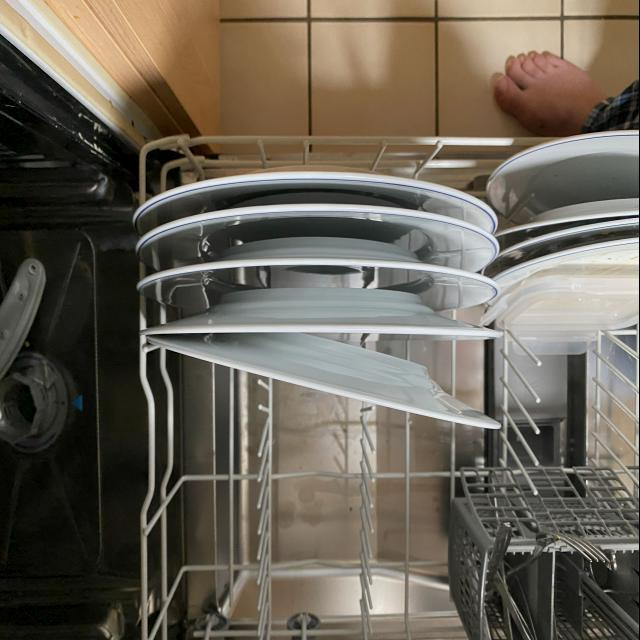clutery_bin: (474, 542, 627, 640)
empty_slot: (146, 424, 445, 632), (501, 335, 637, 464)
